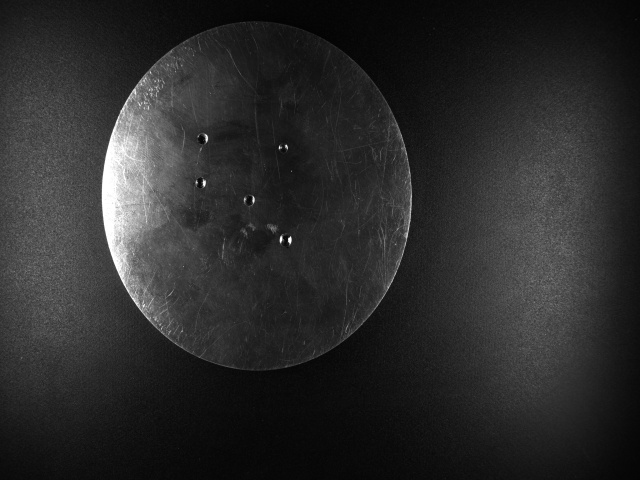zhen_kong: (194, 129, 212, 149), (278, 231, 297, 249), (192, 175, 207, 191), (242, 193, 257, 208), (277, 141, 291, 154)
